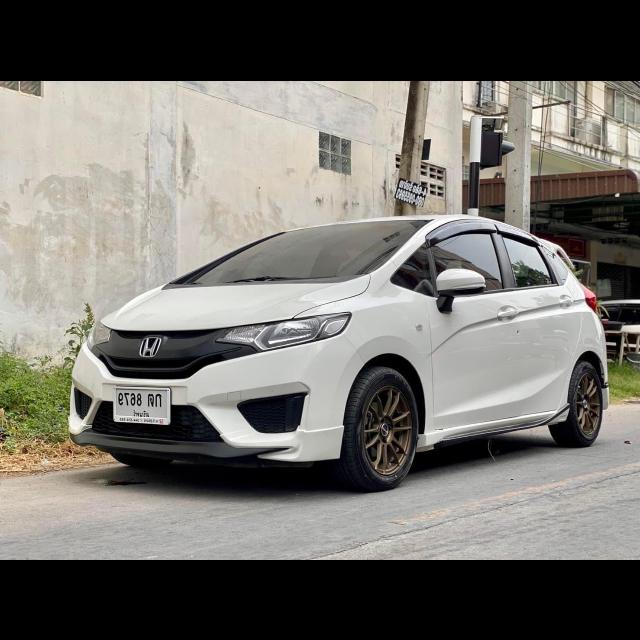cars: (53, 203, 617, 497)
